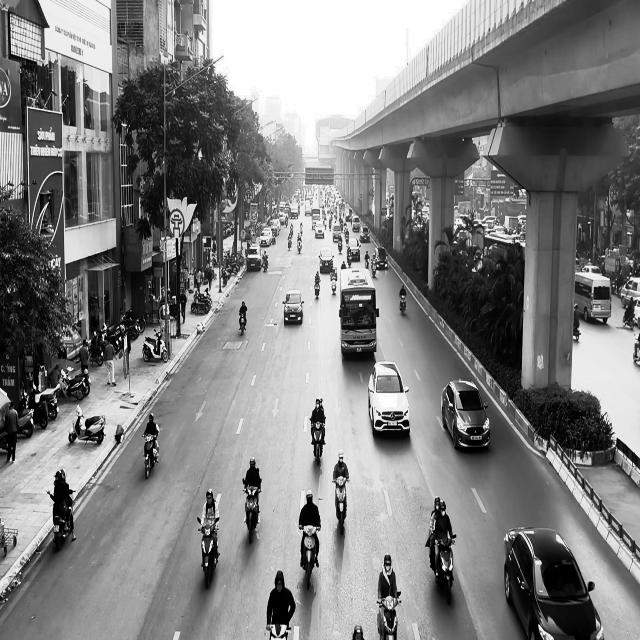bus: (339, 267, 378, 356)
car: (503, 526, 604, 640), (440, 379, 490, 451), (368, 360, 410, 436), (282, 290, 304, 324)
motorbike: (44, 486, 76, 550), (429, 534, 456, 604), (196, 516, 220, 588), (68, 404, 105, 445), (299, 524, 320, 590), (376, 592, 401, 640), (242, 480, 261, 542), (332, 477, 348, 535), (142, 432, 159, 479), (309, 417, 325, 465), (238, 310, 247, 335), (399, 294, 406, 315), (314, 279, 320, 299)
